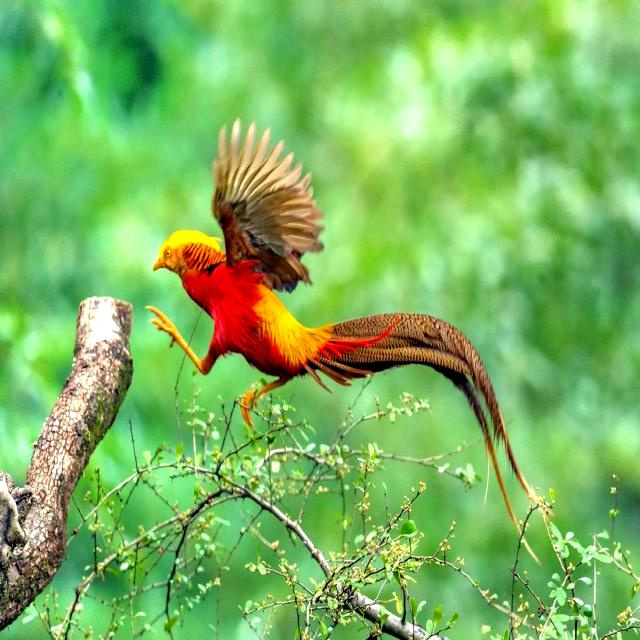Chrysolophus pictus feather: (308, 314, 555, 565)
